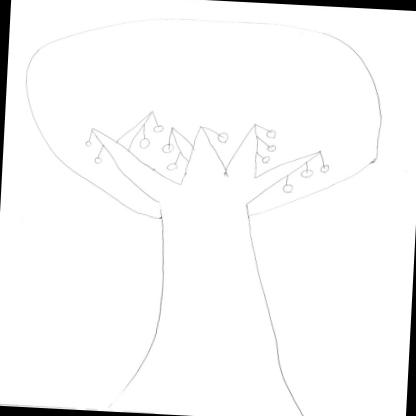apple: (257, 120, 280, 140), (154, 138, 174, 153), (316, 160, 334, 176), (213, 128, 231, 144), (160, 160, 184, 172), (278, 182, 297, 196), (136, 136, 152, 150), (151, 121, 165, 134), (263, 142, 278, 154), (298, 168, 316, 178), (260, 155, 274, 166), (91, 154, 102, 164), (83, 140, 94, 149)
branch_sharp: (82, 107, 328, 188)
crown_mushroom: (12, 3, 393, 230)
trunk_straight: (135, 218, 300, 372)
